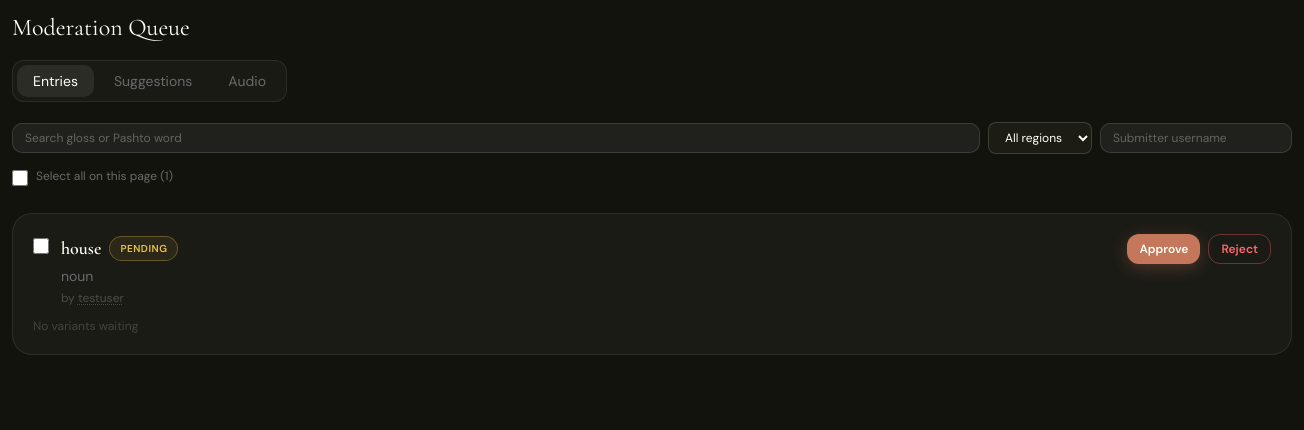
DashboardQueue page — moderation queue › shows an error message when the approve action fails
Click the button "Approve" at (1164, 249), box x1=1128 y1=234 x2=1200 y2=264
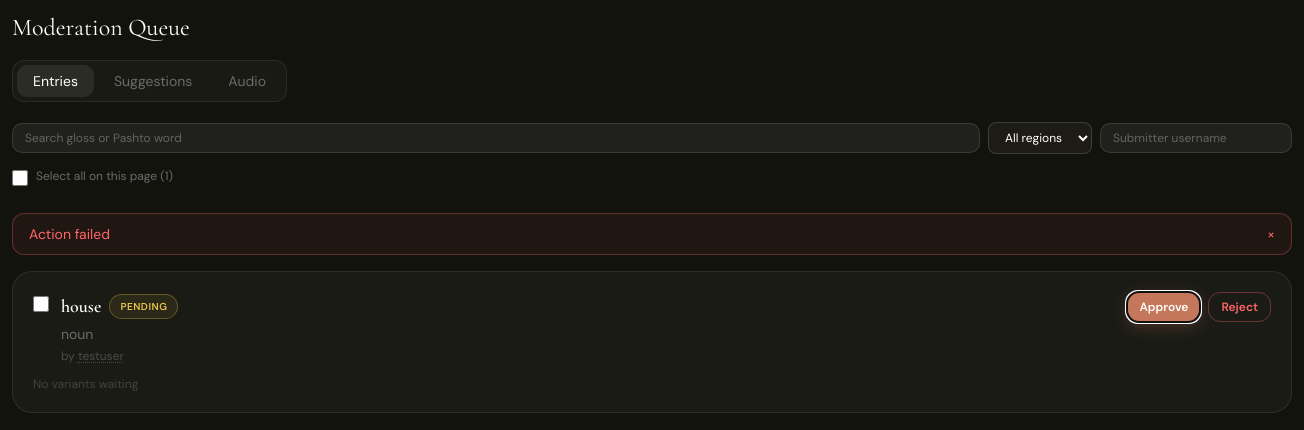
Expected: the text "Action failed" is shown, x1=29 y1=225 x2=110 y2=243
